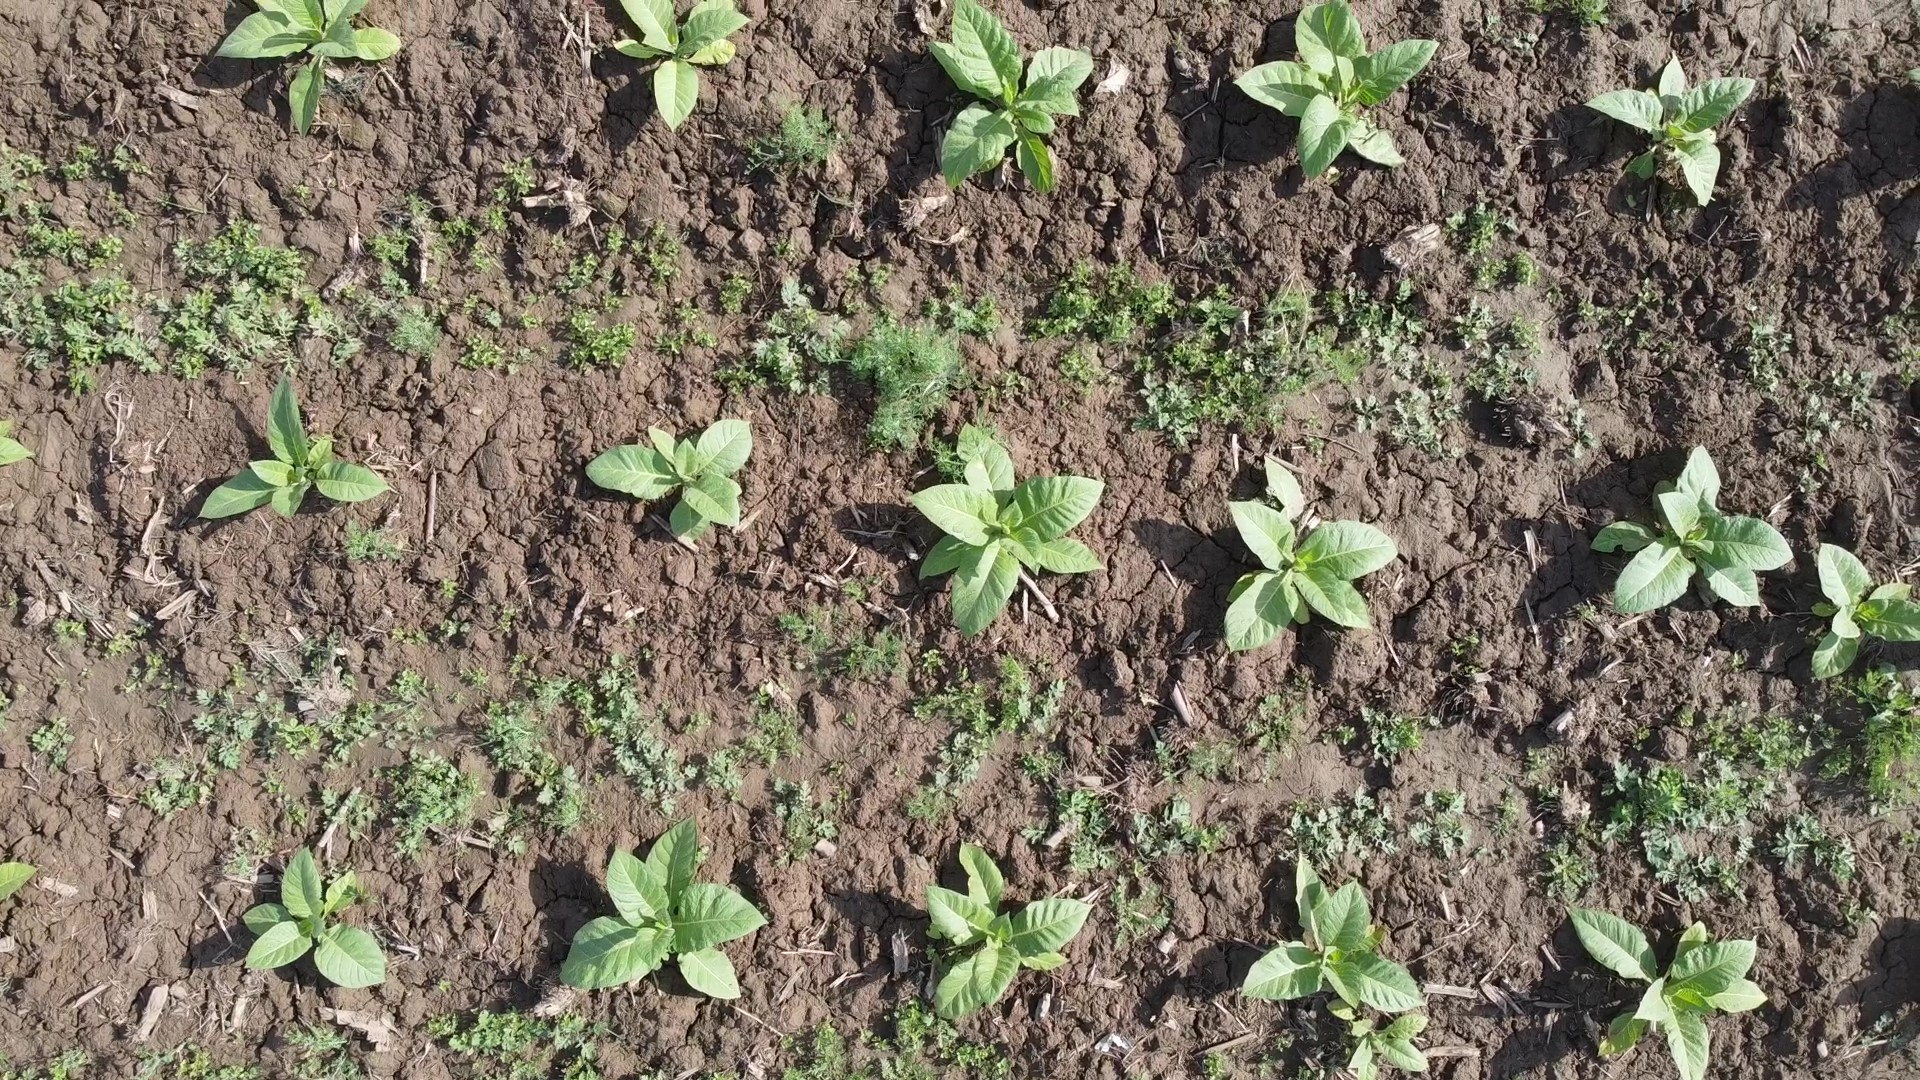weed: (906, 420, 1109, 641), (1238, 851, 1431, 1080), (557, 814, 771, 1001), (1231, 0, 1442, 183), (1562, 903, 1770, 1080), (1220, 455, 1399, 655), (1589, 443, 1795, 616), (925, 0, 1099, 196), (922, 838, 1097, 1021), (195, 373, 391, 522), (1582, 50, 1757, 209), (213, 0, 404, 140), (240, 843, 388, 990), (584, 418, 754, 545), (611, 0, 754, 134), (1809, 541, 1920, 681), (0, 418, 35, 466), (0, 861, 42, 900)
